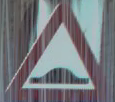Speed Breaker ahead: (5, 7, 102, 95)
